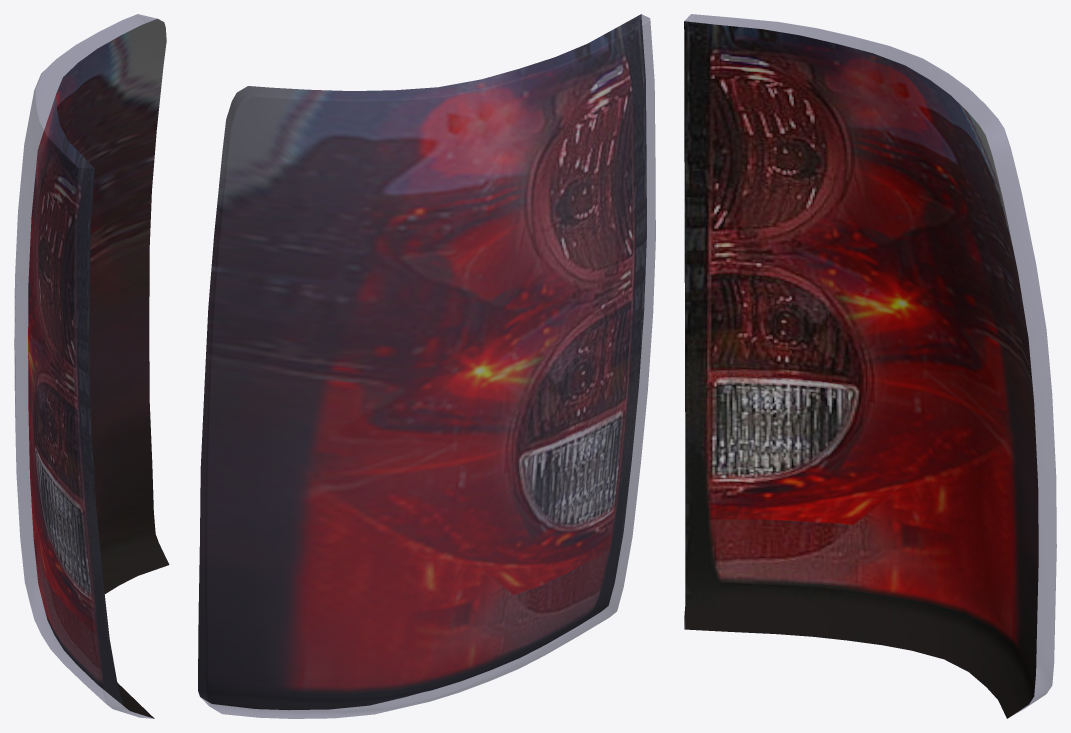
3 views of the same model, side by side, from view 1: azimuth 30°, elevation 25°; view 2: azimuth 150°, elevation 25°; view 3: azimuth 270°, elevation 25° (orthographic). The views are drawn at different scales.
Parts seen in each view (by area): view 1: U805_4A_541C_L_2_N_U805_4A_541C_L, U805_4A_541C_L_U805_4A_541C_L_1_DTaSI; view 2: U805_4A_541C_L_U805_4A_541C_L_1_DTaSI, U805_4A_541C_L_2_N_U805_4A_541C_L; view 3: U805_4A_541C_L_2_N_U805_4A_541C_L, U805_4A_541C_L_U805_4A_541C_L_1_DTaSI.
Boxes of the visible parts, x1,y1,x2,y2 form: U805_4A_541C_L_2_N_U805_4A_541C_L: [28, 18, 169, 718]; U805_4A_541C_L_U805_4A_541C_L_1_DTaSI: [14, 14, 156, 718]; U805_4A_541C_L_U805_4A_541C_L_1_DTaSI: [198, 14, 655, 718]; U805_4A_541C_L_2_N_U805_4A_541C_L: [198, 14, 646, 709]; U805_4A_541C_L_2_N_U805_4A_541C_L: [684, 21, 1038, 718]; U805_4A_541C_L_U805_4A_541C_L_1_DTaSI: [685, 14, 1056, 716].
Size of the model in its own units: 12.93 by 28.11 by 16.28.
